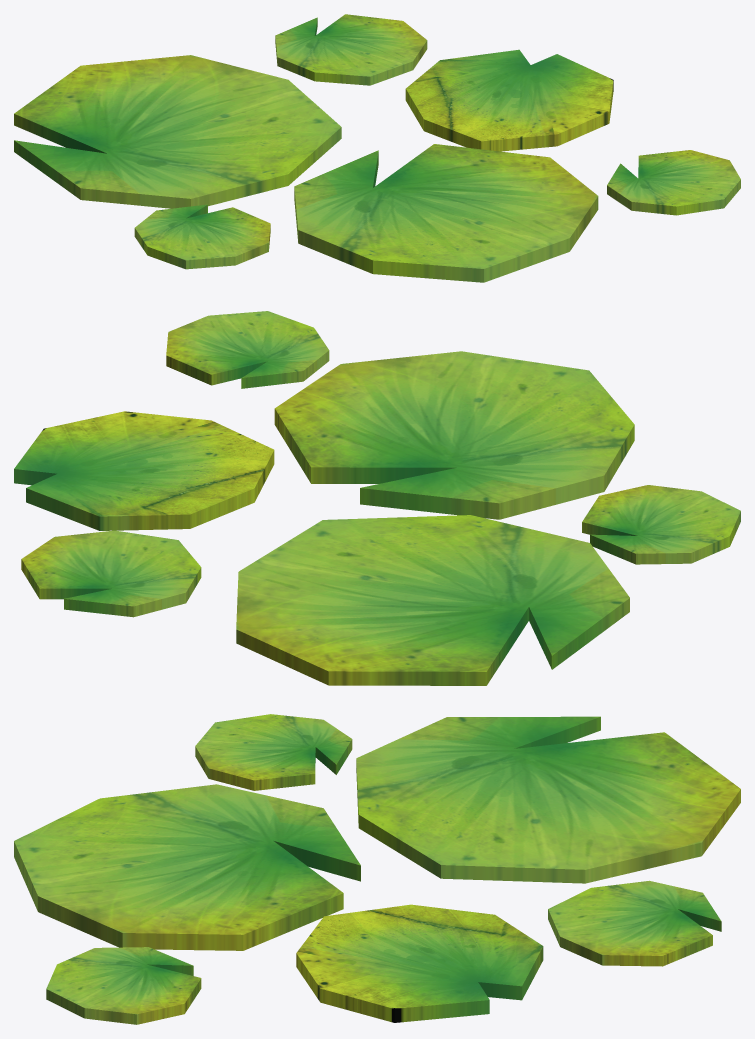
Rendered from lilly_pads1.fbx.
3 renders of one model, top to bottom at view 1: azimuth 30°, elevation 25°; view 2: azimuth 150°, elevation 25°; view 3: azimuth 270°, elevation 25°, orthographic. The views are drawn at different scales.
Visible parts, largest first — view 1: group10_polySurface2; view 2: group10_polySurface2; view 3: group10_polySurface2.
Part boxes in pixels (x1=…): group10_polySurface2: x1=14, y1=14, x2=740, y2=282; group10_polySurface2: x1=14, y1=311, x2=740, y2=685; group10_polySurface2: x1=14, y1=714, x2=740, y2=1024.
Bounding box in the file's own units: 91.74 × 2.29 × 93.87.
Materials: 1 (1 with a texture image).
